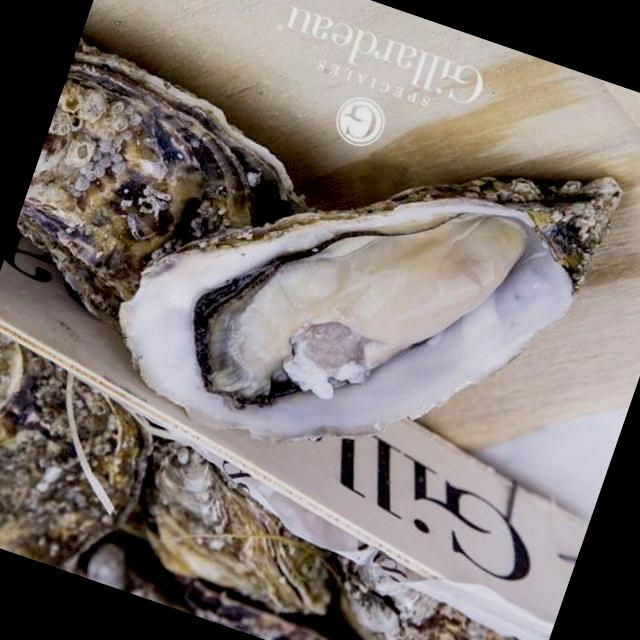Oyster-Closed: (22, 44, 291, 332), (137, 437, 372, 640), (16, 348, 153, 534), (0, 420, 124, 560)
Oyster-Open: (120, 187, 614, 429)
